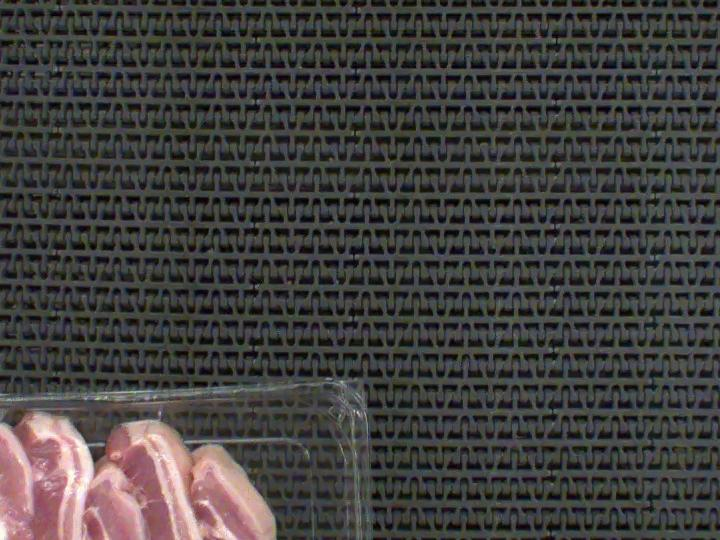packaging-error: (0, 398, 8, 426)
